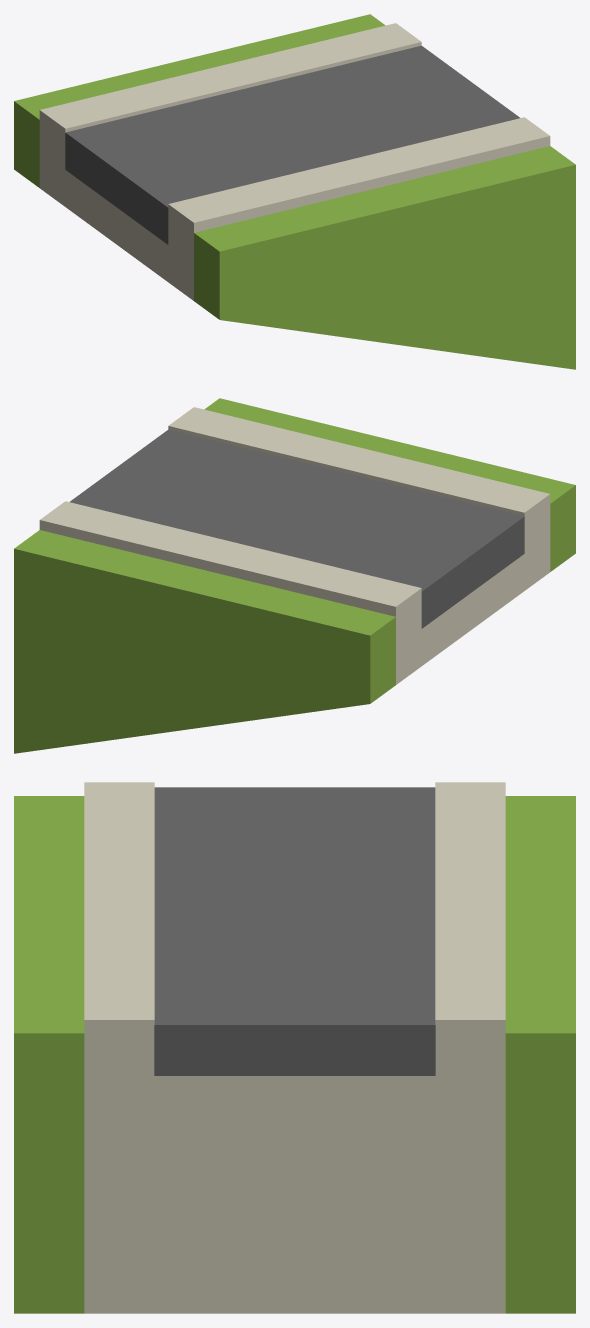
The model's file is tile096.dae.
3 renders of one model, top to bottom at view 1: azimuth 30°, elevation 25°; view 2: azimuth 150°, elevation 25°; view 3: azimuth 270°, elevation 25°, orthographic. The views are drawn at different scales.
Parts seen in each view (by area): view 1: tile096; view 2: tile096; view 3: tile096.
Boxes of the visible parts, x1,y1,x2,y2 form: tile096: (14,14,575,369); tile096: (14,398,575,753); tile096: (14,782,575,1313).
Bounding box in the file's own units: 1 × 0.5767 × 1.
